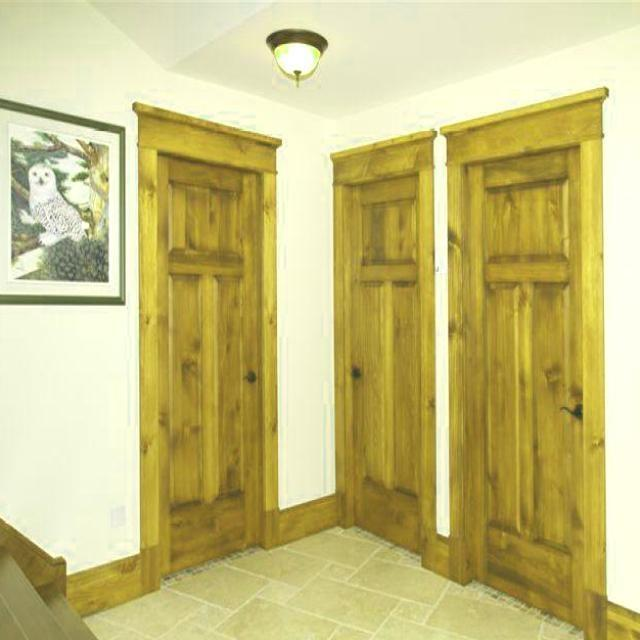door: (441, 79, 614, 610), (122, 89, 283, 584), (331, 116, 442, 570)
